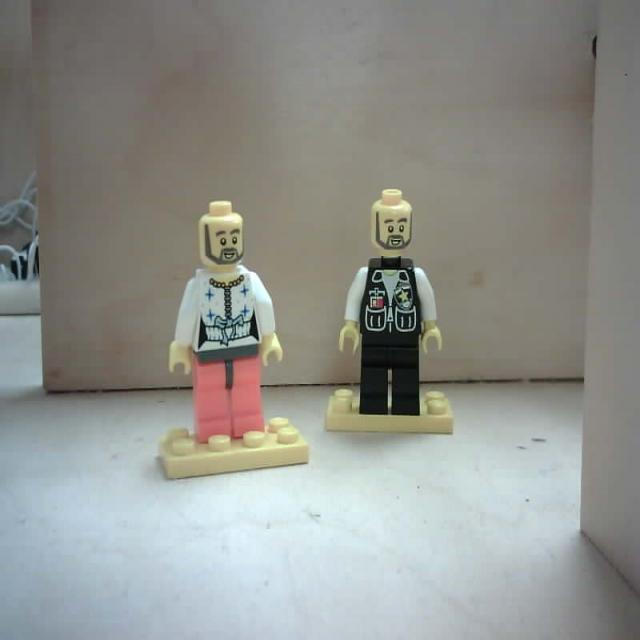Lego-People: (161, 204, 310, 482), (326, 190, 454, 437)
